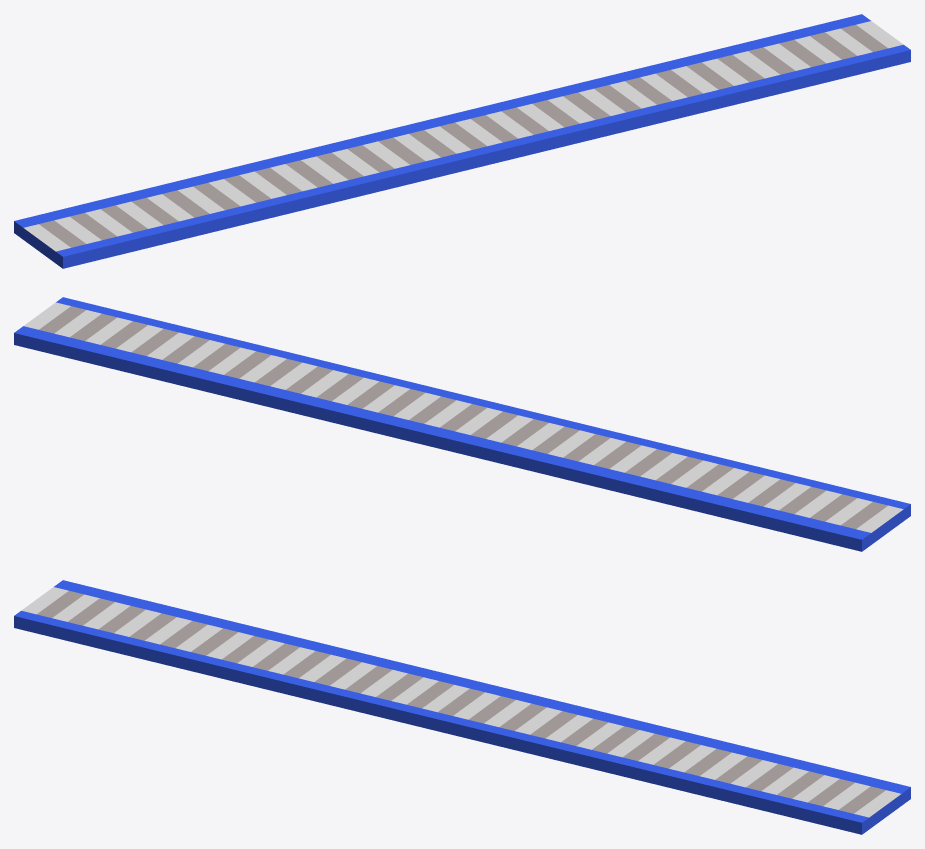
Rendered from Floor2.fbx.
The picture shows the model from 3 angles, top to bottom: view 1: azimuth 30°, elevation 25°; view 2: azimuth 150°, elevation 25°; view 3: azimuth 330°, elevation 25°; orthographic projection.
Parts seen in each view (by area): view 1: Cube; view 2: Cube; view 3: Cube.
Part boxes in pixels (<box>): Cube: <box>14,14,910,268</box>; Cube: <box>14,297,910,551</box>; Cube: <box>14,580,910,834</box>.
Bounding box in the file's own units: 4000 × 54.14 × 400.
